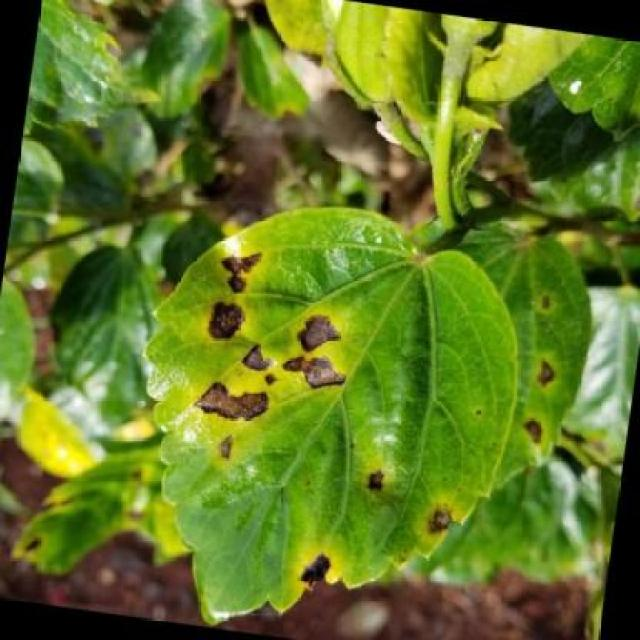Tomato leaf bacterial spot: (98, 180, 536, 640)
